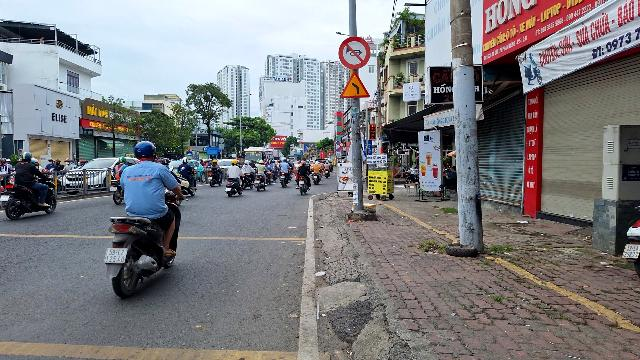cam-bop-coi: (338, 35, 370, 69)
cho-ngoat-nguy-hiem-ben-trai: (340, 71, 371, 99)
